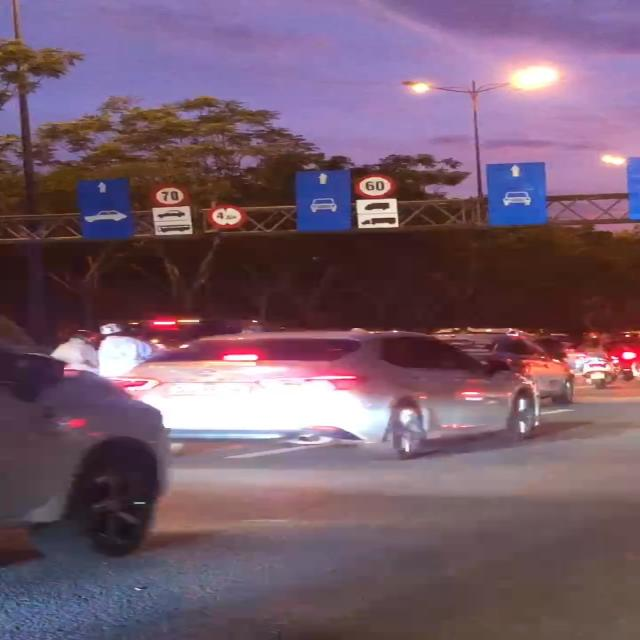Bien bao han che chieu cao: (206, 205, 247, 230)
Bien bao toc do toi da cho phep: (352, 171, 396, 197), (149, 184, 190, 207)
